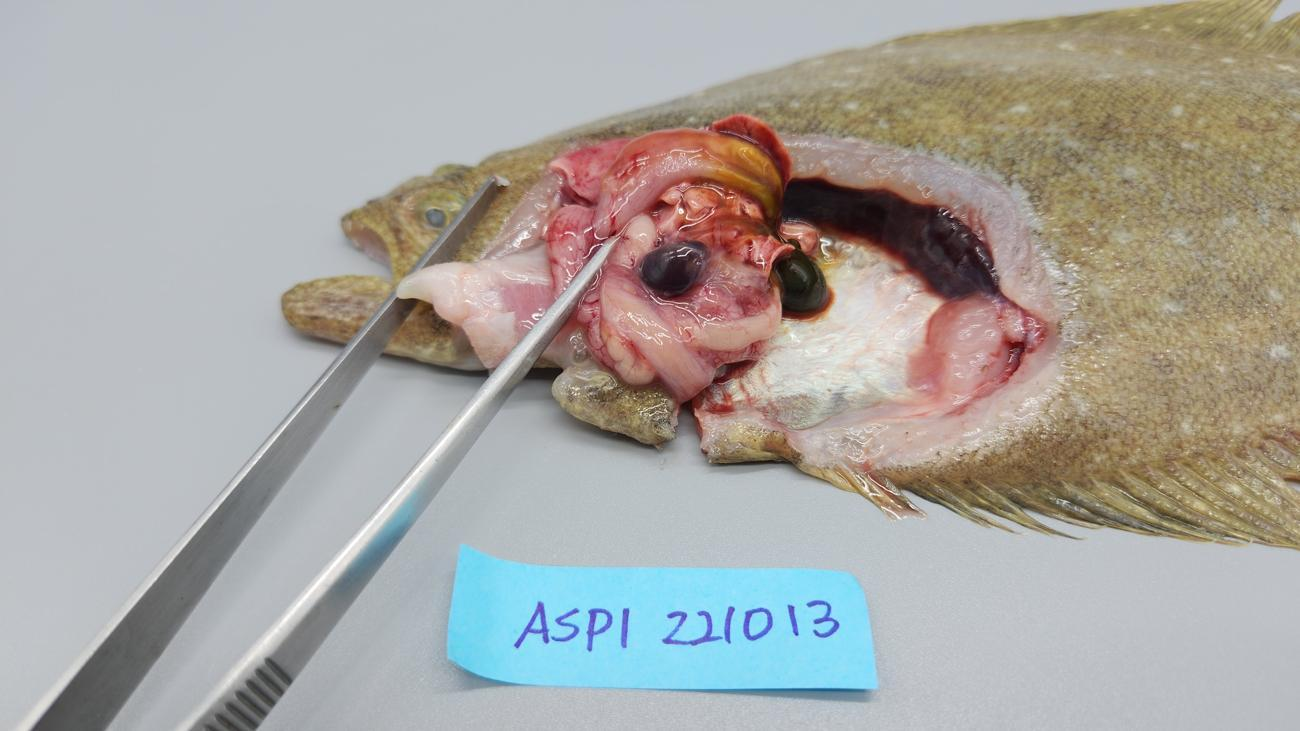SPINH: (546, 213, 594, 259)
SPINI: (599, 126, 742, 191)
